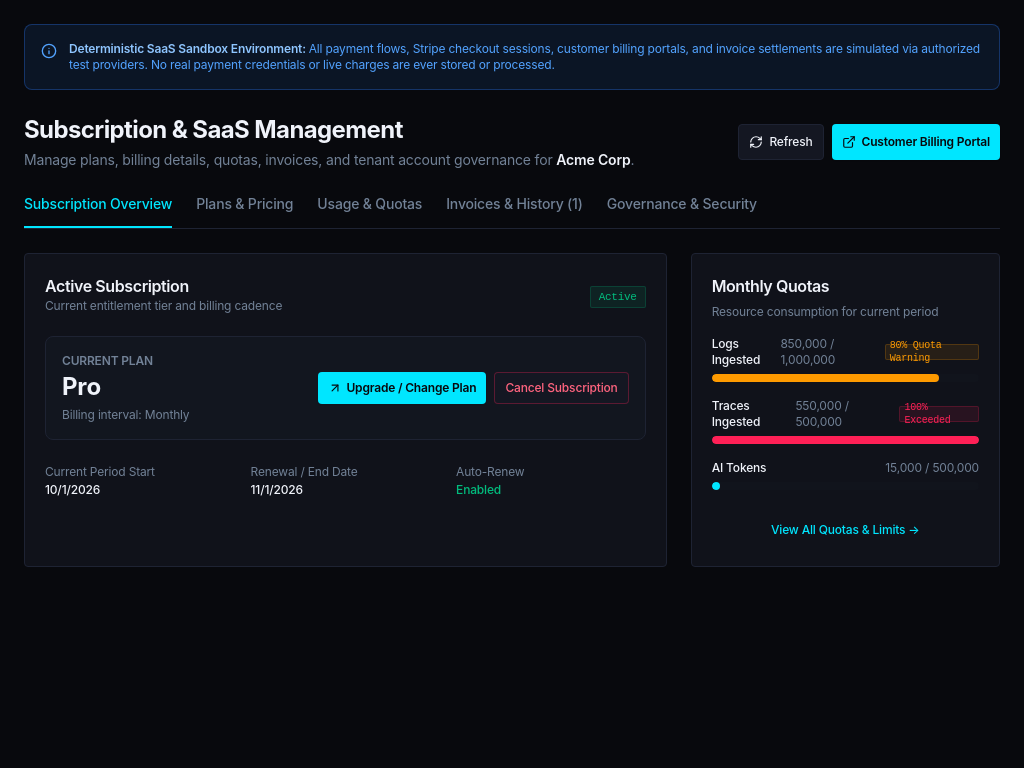
Test case: BillingPage SaaS Management › renders itemized invoice history and allows opening details modal
expect the text "Acme Corp" is shown: met, box x1=556 y1=151 x2=630 y2=168
Click the button "Invoices & History (1)".
click(514, 211)  # box x1=446 y1=194 x2=583 y2=228
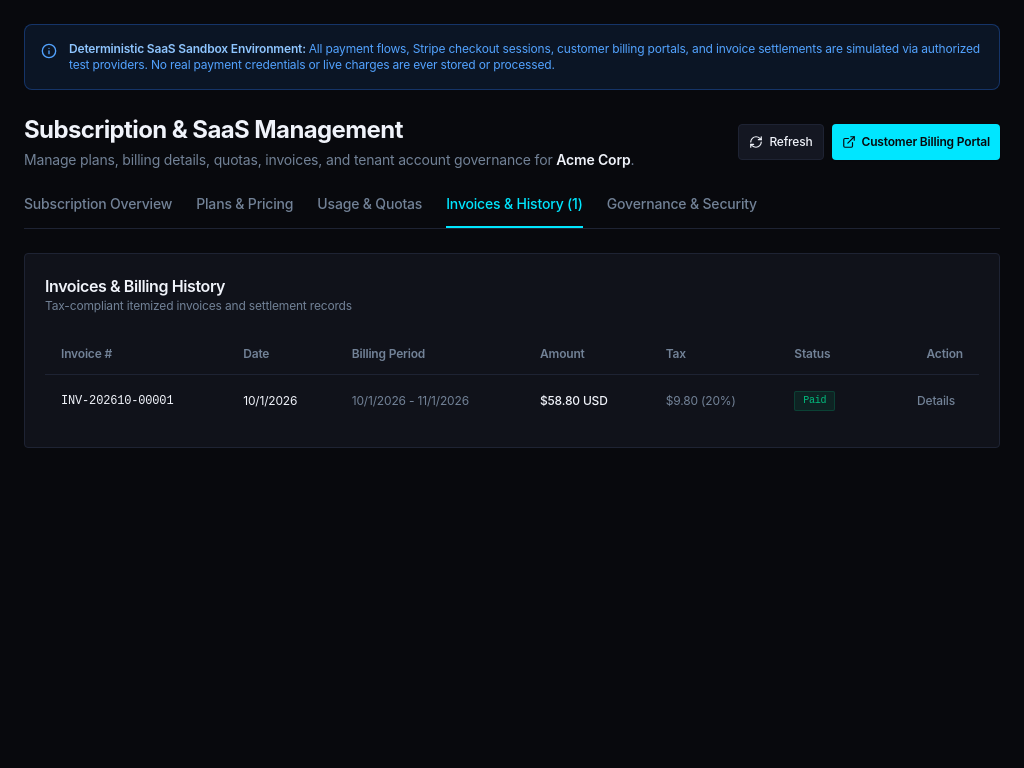
expect the text "INV-202610-00001" is shown: met, box x1=45 y1=374 x2=227 y2=427
expect the text "$58.80 USD" is shown: met, box x1=524 y1=374 x2=650 y2=427
Click the button "Details".
click(936, 401)  # box x1=909 y1=387 x2=963 y2=415
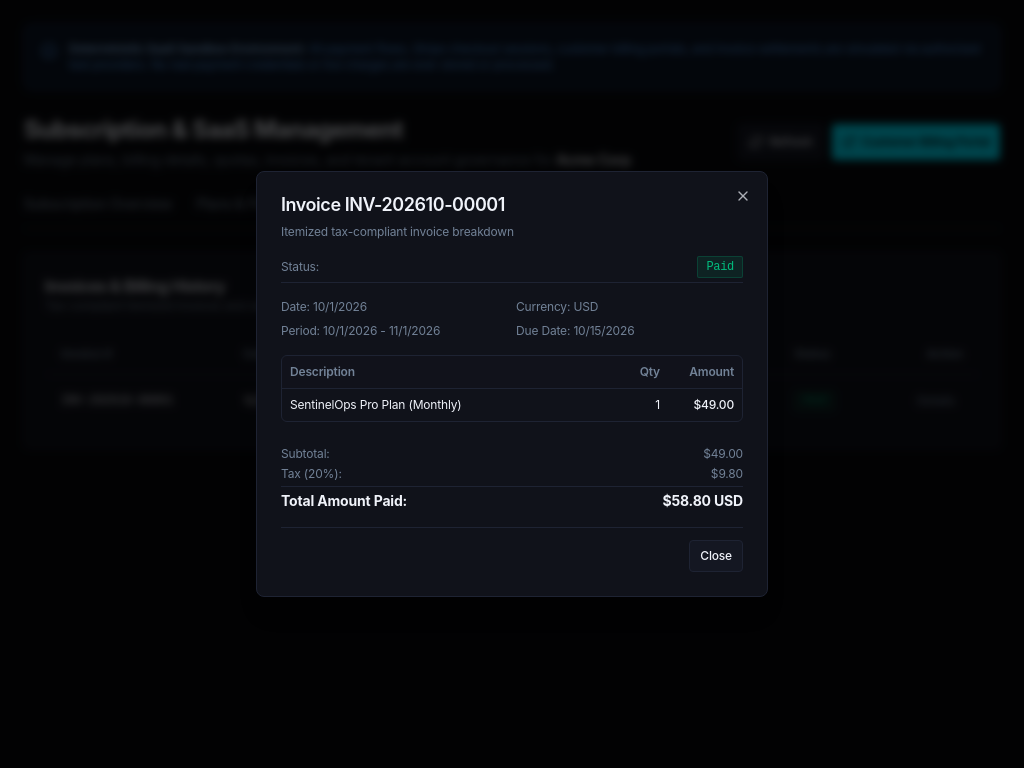
expect the text "Itemized tax-compliant invoice breakdown" is shown: met, box x1=281 y1=224 x2=514 y2=239
expect the text "Subtotal:" is shown: met, box x1=281 y1=446 x2=330 y2=462
expect the text "Tax (20%):" is shown: met, box x1=281 y1=466 x2=342 y2=482
